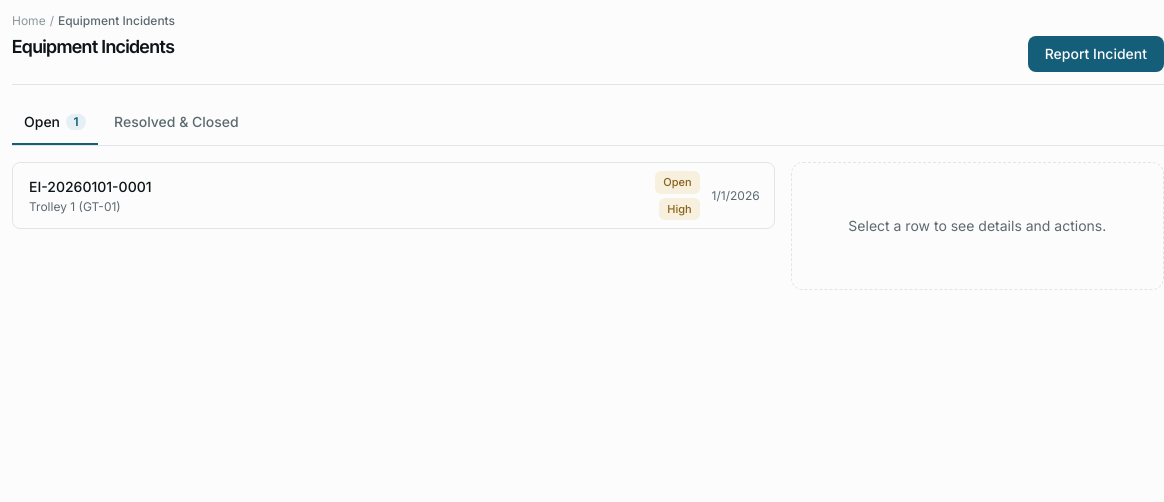
Test case: EquipmentIncidentsPage: durable queue/list-detail workspace › selecting a row opens the inspector showing Potentially impacted area, never 'Affected crop'
Check: the text "EI-20260101-0001" is shown, box [29,176,152,196]
Click the button "EI-20260101-0001 Trolley 1 (GT-01)". click: (90, 186)
box: [29,176,643,214]
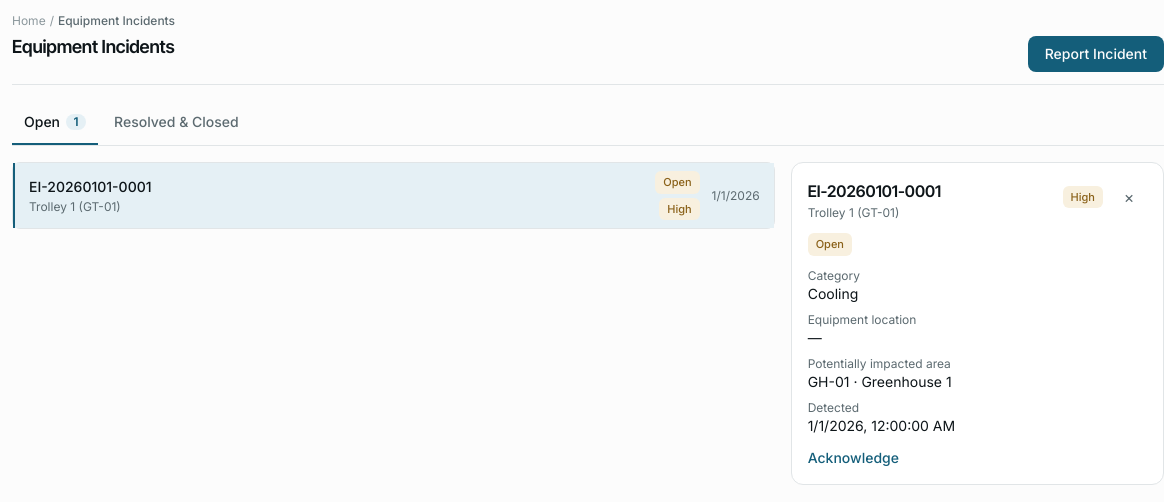
Check: the text "Potentially impacted area" is shown, box [808,356,951,370]
